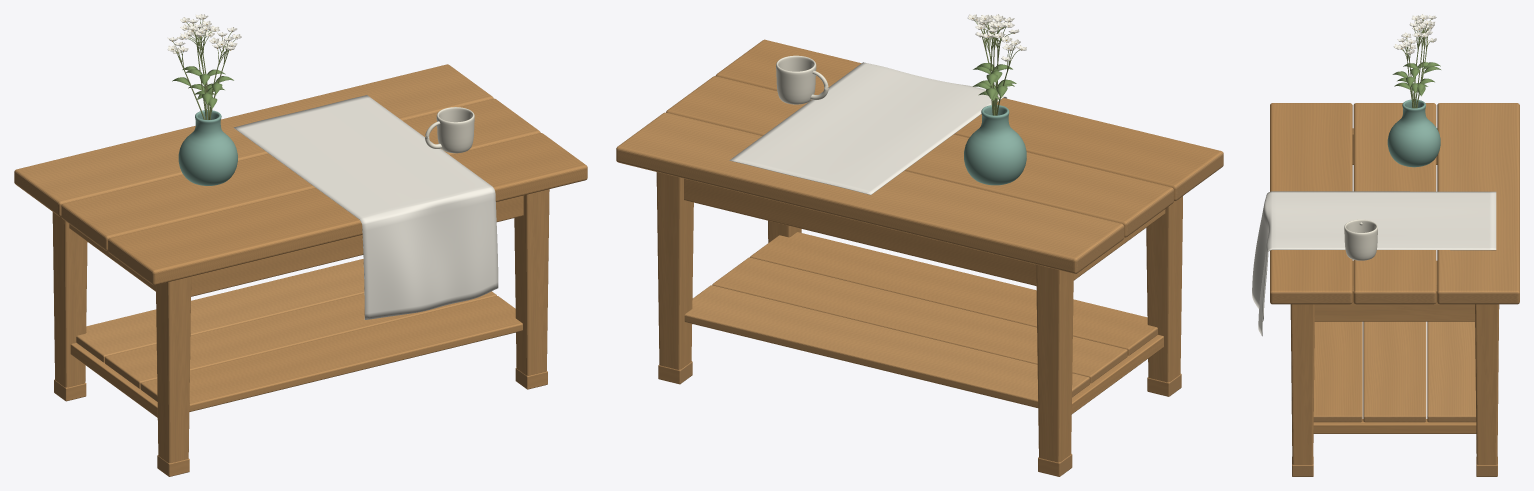
File: display-set.glb
3 renders of one model, left to right at view 1: azimuth 30°, elevation 25°; view 2: azimuth 150°, elevation 25°; view 3: azimuth 270°, elevation 25°, orthographic. The views are drawn at different scales.
Visible parts, largest first — view 1: asset-foundation-v1/table, asset-foundation-v1/cloth, asset-foundation-v1/vase, asset-foundation-v1/flowers, asset-foundation-v1/cup; view 2: asset-foundation-v1/table, asset-foundation-v1/cloth, asset-foundation-v1/vase, asset-foundation-v1/flowers, asset-foundation-v1/cup; view 3: asset-foundation-v1/table, asset-foundation-v1/cloth, asset-foundation-v1/vase, asset-foundation-v1/flowers, asset-foundation-v1/cup.
Part boxes in pixels (x1=…): asset-foundation-v1/table: x1=14, y1=64, x2=587, y2=476; asset-foundation-v1/cloth: x1=233, y1=95, x2=498, y2=319; asset-foundation-v1/vase: x1=178, y1=110, x2=237, y2=185; asset-foundation-v1/flowers: x1=167, y1=14, x2=241, y2=119; asset-foundation-v1/cup: x1=425, y1=107, x2=474, y2=153; asset-foundation-v1/table: x1=616, y1=39, x2=1223, y2=476; asset-foundation-v1/cloth: x1=729, y1=62, x2=1007, y2=194; asset-foundation-v1/vase: x1=964, y1=105, x2=1026, y2=185; asset-foundation-v1/flowers: x1=967, y1=14, x2=1026, y2=115; asset-foundation-v1/cup: x1=776, y1=55, x2=828, y2=104; asset-foundation-v1/table: x1=1270, y1=103, x2=1519, y2=476; asset-foundation-v1/cloth: x1=1252, y1=191, x2=1496, y2=336; asset-foundation-v1/vase: x1=1387, y1=99, x2=1440, y2=167; asset-foundation-v1/flowers: x1=1392, y1=14, x2=1440, y2=108; asset-foundation-v1/cup: x1=1344, y1=219, x2=1377, y2=260.
Bounding box in the file's own units: 1.86 × 1.55 × 1.11.
Materials: 12 (5 with a texture image).
